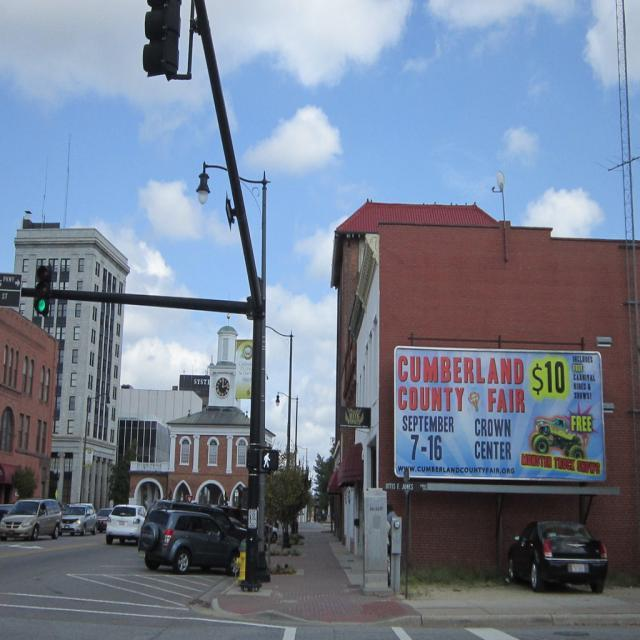traffic light: (143, 0, 181, 82), (34, 264, 52, 318), (262, 451, 279, 470)
